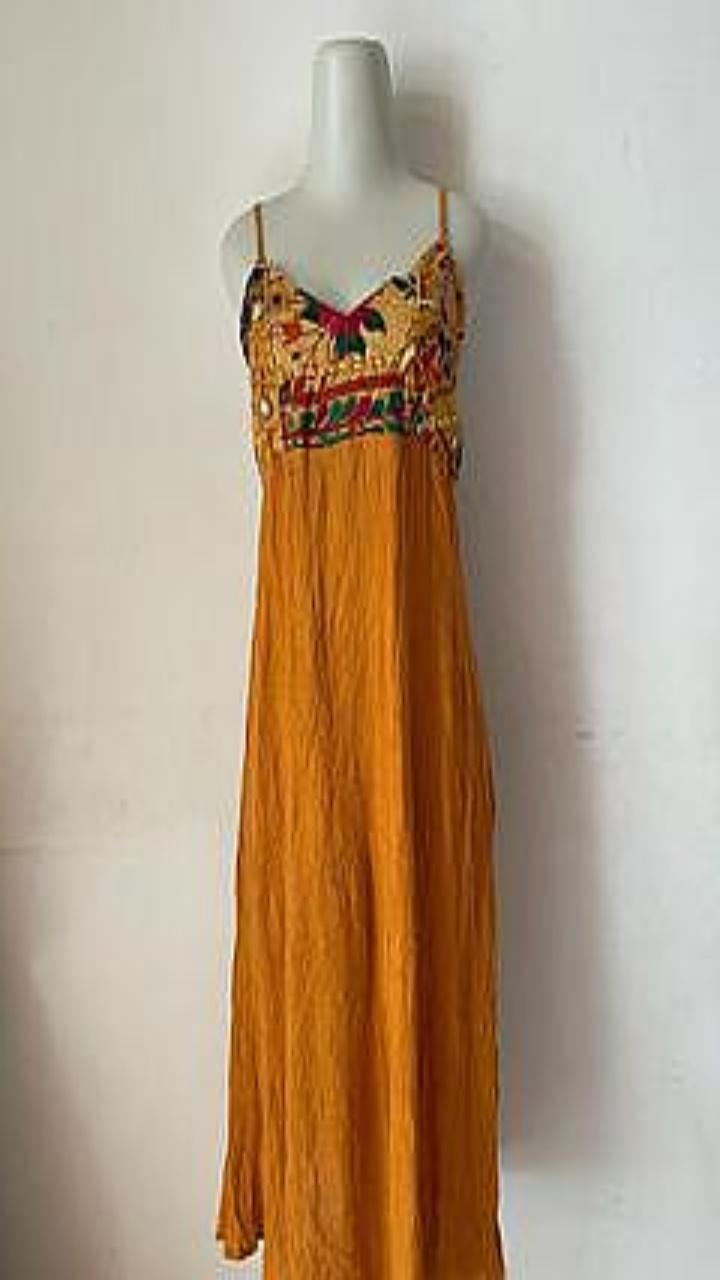Dresses: (215, 188, 504, 1279)
